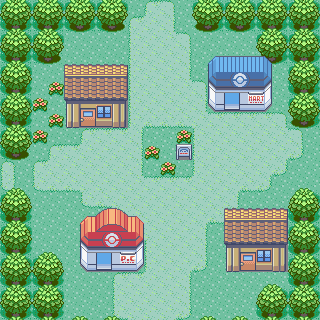normal_house: (62, 62, 131, 131), (222, 206, 291, 274)
pokemart: (204, 54, 275, 115)
pokemon_center: (78, 206, 146, 274)
